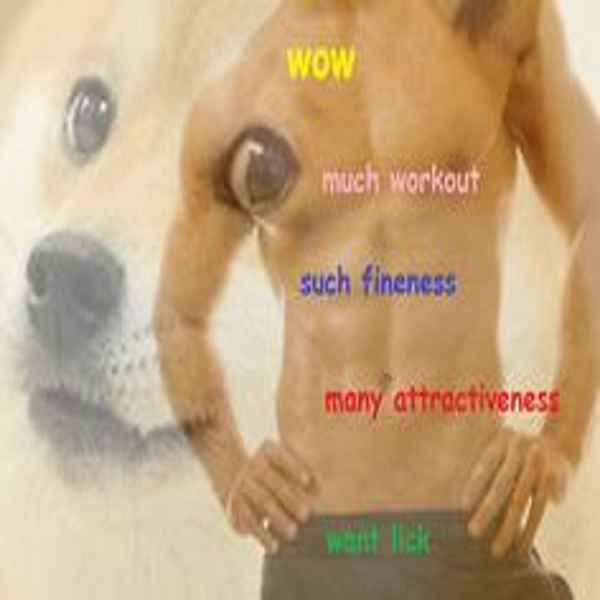doge: (17, 24, 326, 533)
